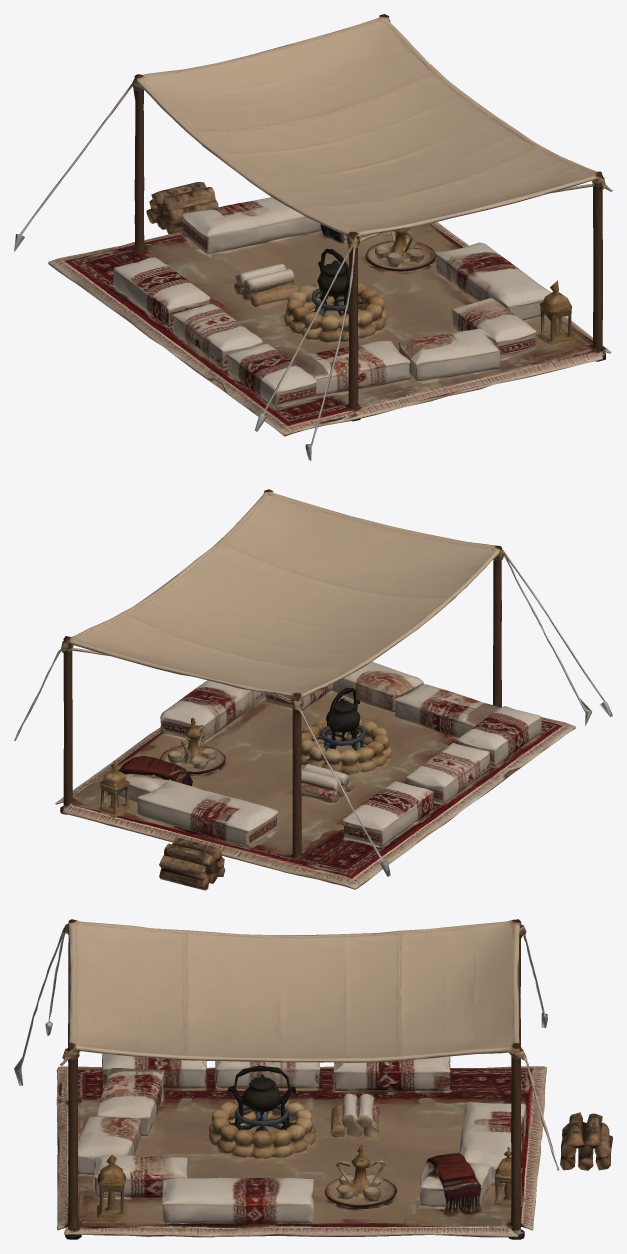
The model's file is kashta.glb.
3 renders of one model, top to bottom at view 1: azimuth 30°, elevation 25°; view 2: azimuth 150°, elevation 25°; view 3: azimuth 270°, elevation 25°, orthographic. The views are drawn at different scales.
Visible parts, largest first — view 1: tripo_node_d1de86a3-e33a-4306-9911-b802c9c340dd; view 2: tripo_node_d1de86a3-e33a-4306-9911-b802c9c340dd; view 3: tripo_node_d1de86a3-e33a-4306-9911-b802c9c340dd.
Boxes of the visible parts, x1,y1,x2,y2 form: tripo_node_d1de86a3-e33a-4306-9911-b802c9c340dd: [14, 14, 612, 460]; tripo_node_d1de86a3-e33a-4306-9911-b802c9c340dd: [14, 489, 612, 890]; tripo_node_d1de86a3-e33a-4306-9911-b802c9c340dd: [14, 919, 612, 1239].
Size of the model in its own units: 0.7867 by 0.3678 by 1.
1 material, 1 textured.
